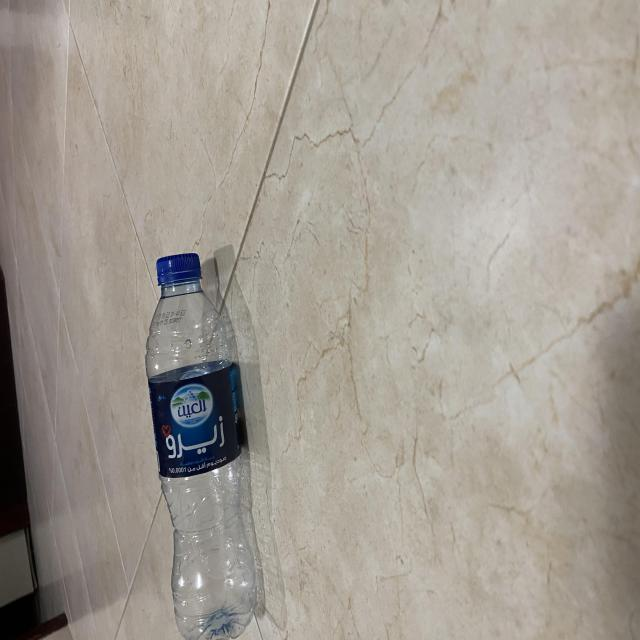bottle: (137, 244, 260, 640)
